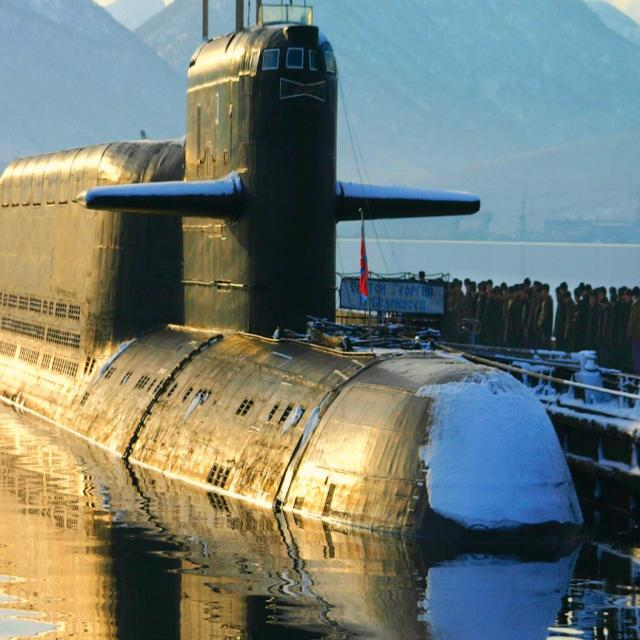submarine: (1, 1, 602, 555)
